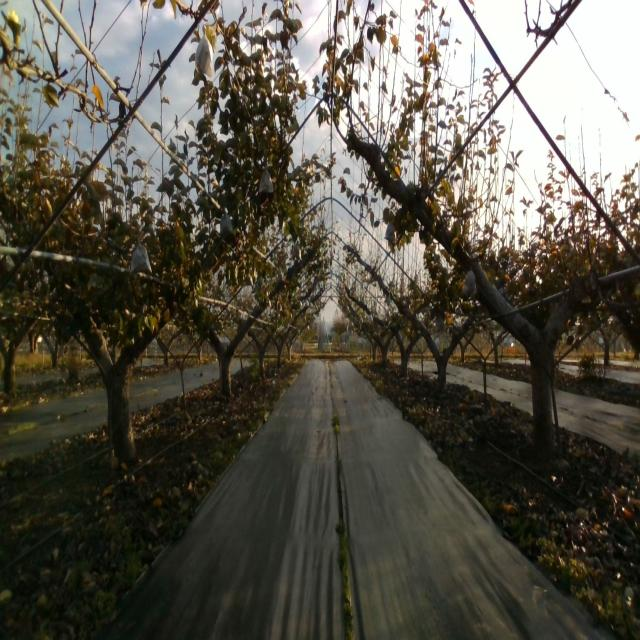pearbags: (195, 25, 214, 78), (130, 236, 152, 275), (462, 266, 478, 300), (258, 166, 274, 194), (220, 212, 233, 235), (384, 220, 396, 243)
